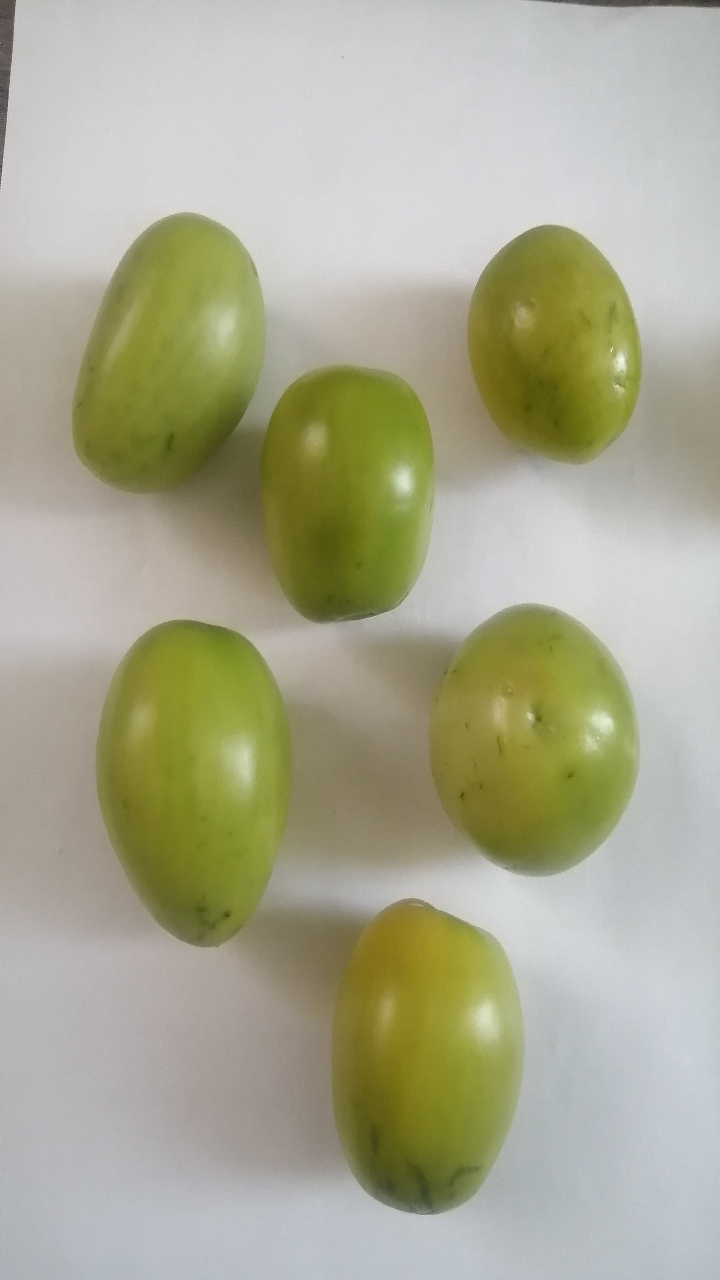tomateVerde: (301, 872, 540, 1228), (72, 605, 283, 962), (412, 585, 648, 895), (64, 189, 269, 502), (451, 195, 652, 472), (251, 345, 440, 634)
